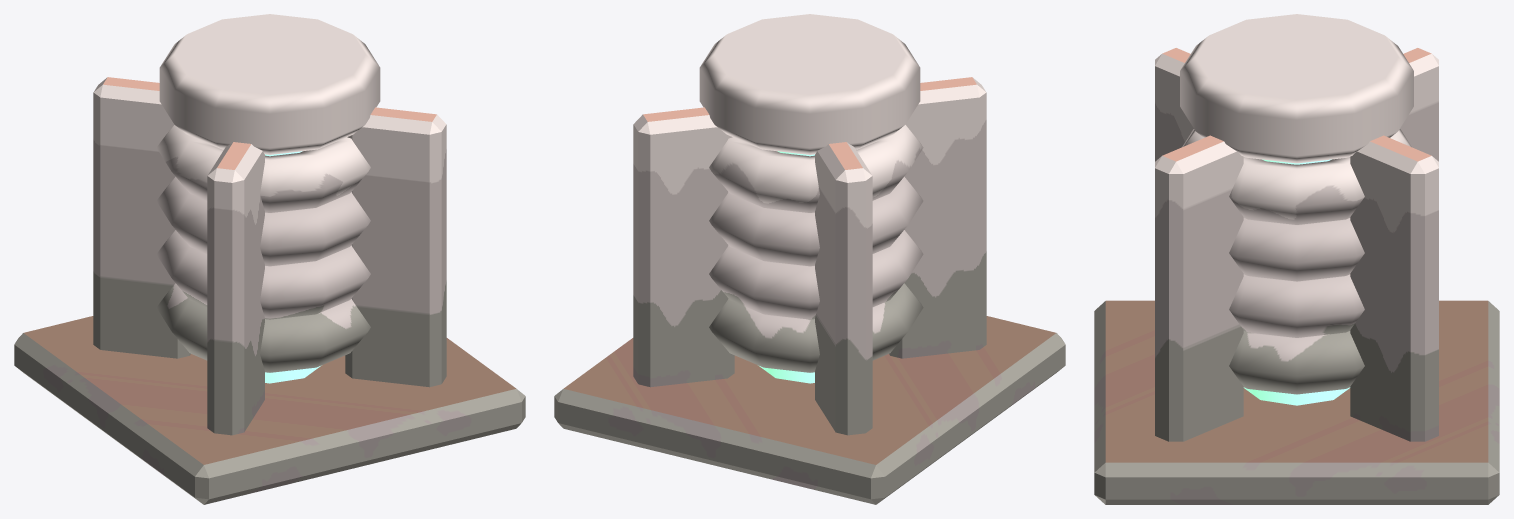
File: R4X_EnergyRegenerator_LOD1.glb
3 views of the same model, side by side, from view 1: azimuth 30°, elevation 25°; view 2: azimuth 150°, elevation 25°; view 3: azimuth 270°, elevation 25° (orthographic). The views are drawn at different scales.
Visible parts, largest first — view 1: R4X_EnergyRegenerator_LOD1; view 2: R4X_EnergyRegenerator_LOD1; view 3: R4X_EnergyRegenerator_LOD1.
Boxes of the visible parts, bbox=[...] form: R4X_EnergyRegenerator_LOD1: bbox=[14, 14, 525, 504]; R4X_EnergyRegenerator_LOD1: bbox=[554, 14, 1065, 504]; R4X_EnergyRegenerator_LOD1: bbox=[1094, 14, 1499, 504].
Bounding box in the file's own units: 0.52 × 0.52 × 0.52.
Materials: 3 (2 with a texture image).
